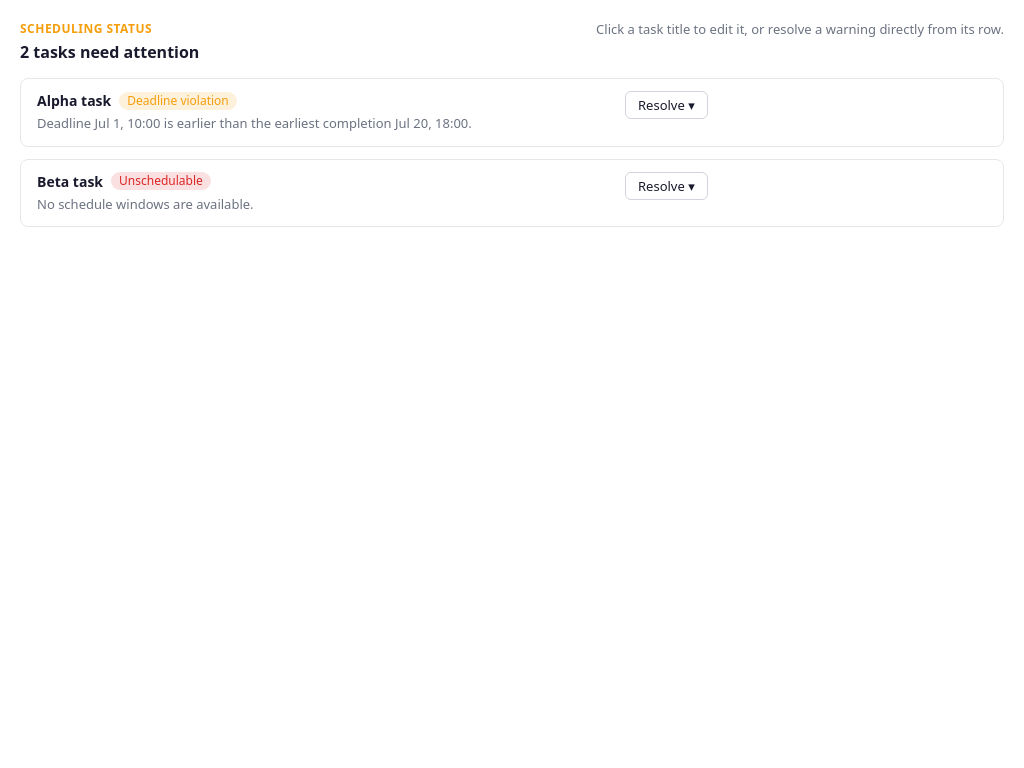
Test: StatusView — task title editing › submitting the editor updates the task, closes the form, and re-derives warnings
The width and height of the screenshot is (1024, 768).
Click the button "Alpha task" at [74, 100], box [37, 91, 111, 110]
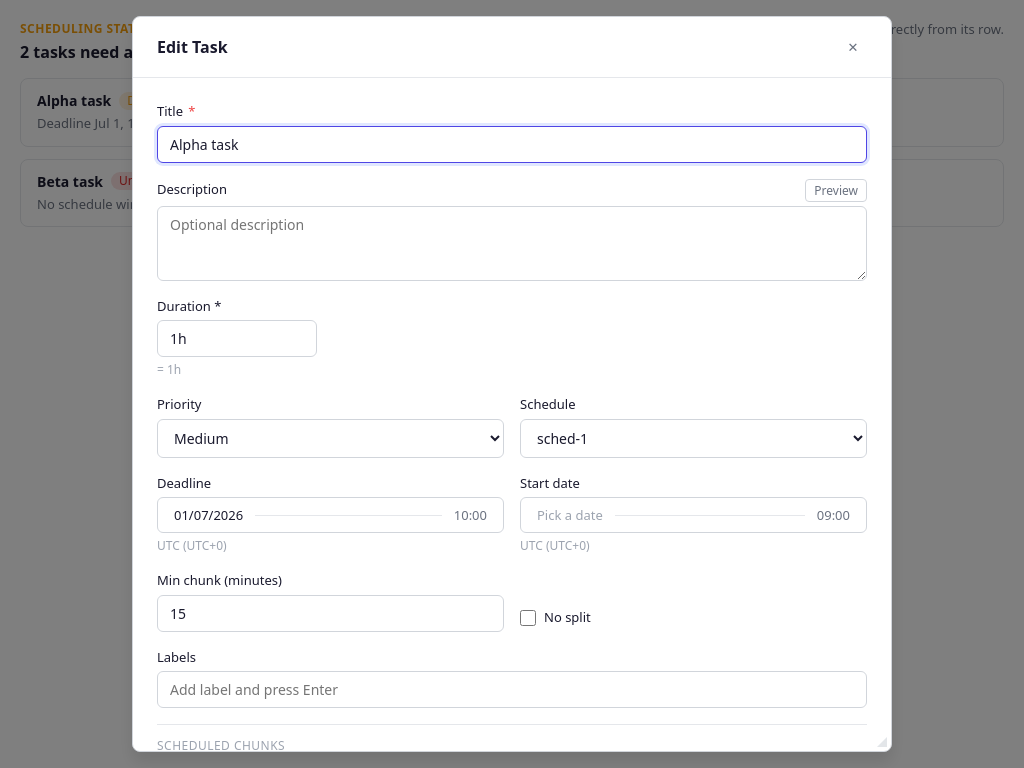
Replace the text in the field with placeholder "Task title" with "Alpha task renamed" at [512, 144], box [157, 126, 867, 162]
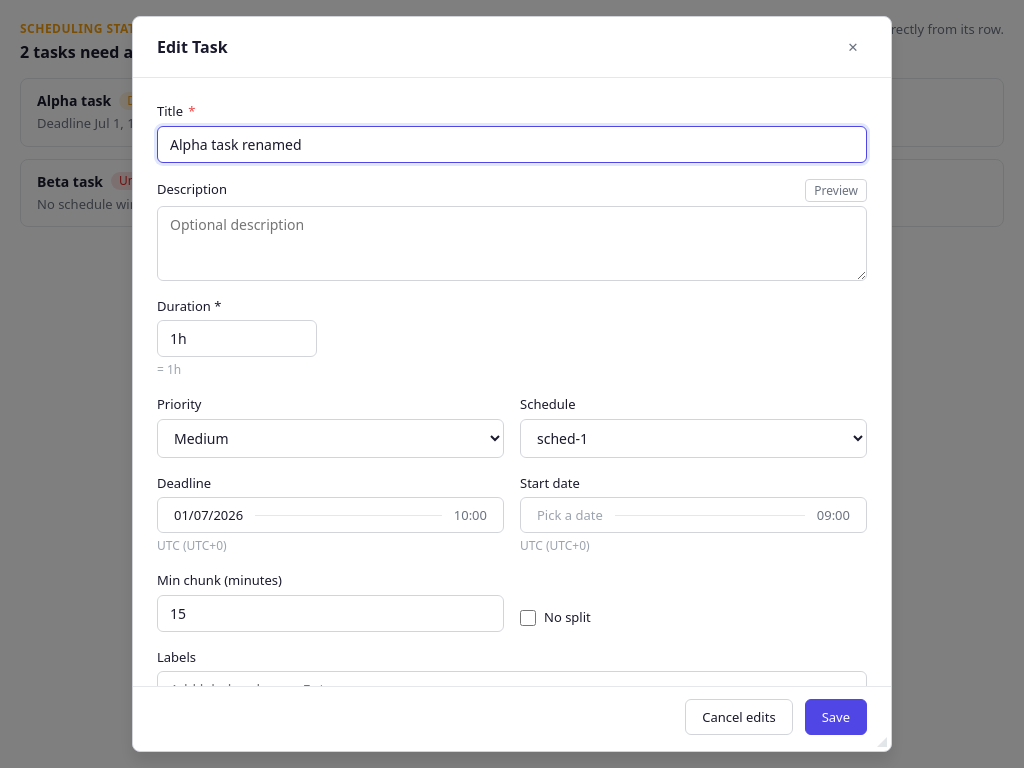
Submit the form with class "task-form", box [157, 102, 867, 708]
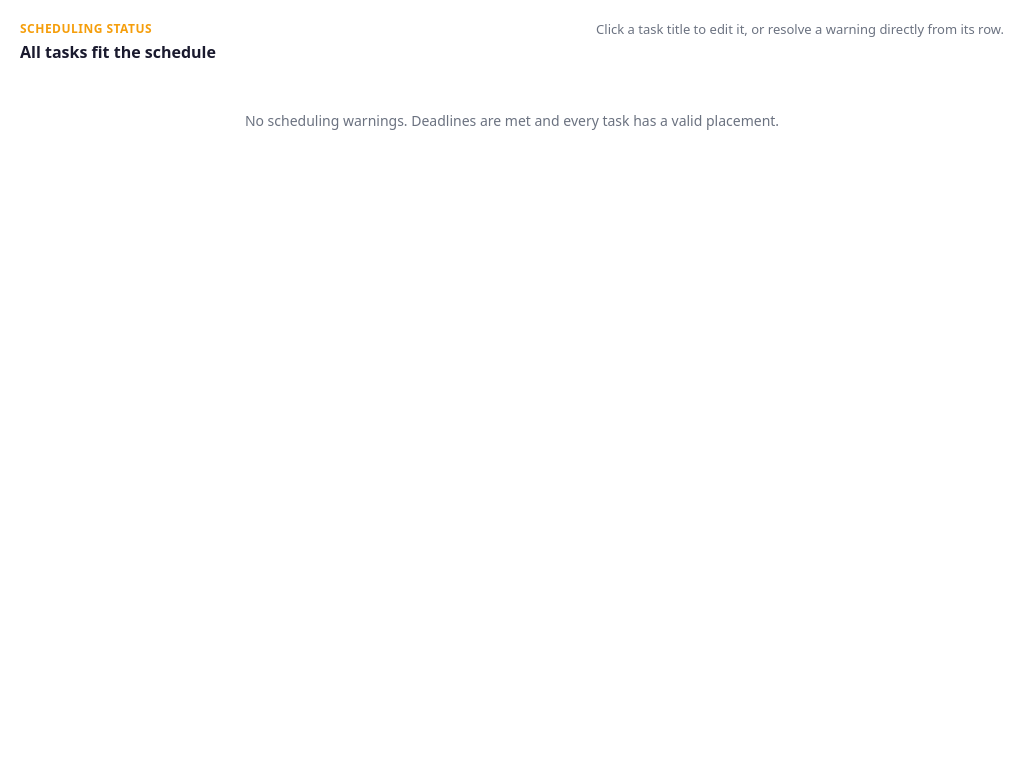
Expected: the heading "Edit Task" is gone
Expected: the heading "All tasks fit the schedule" is shown, [20, 42, 216, 62]
